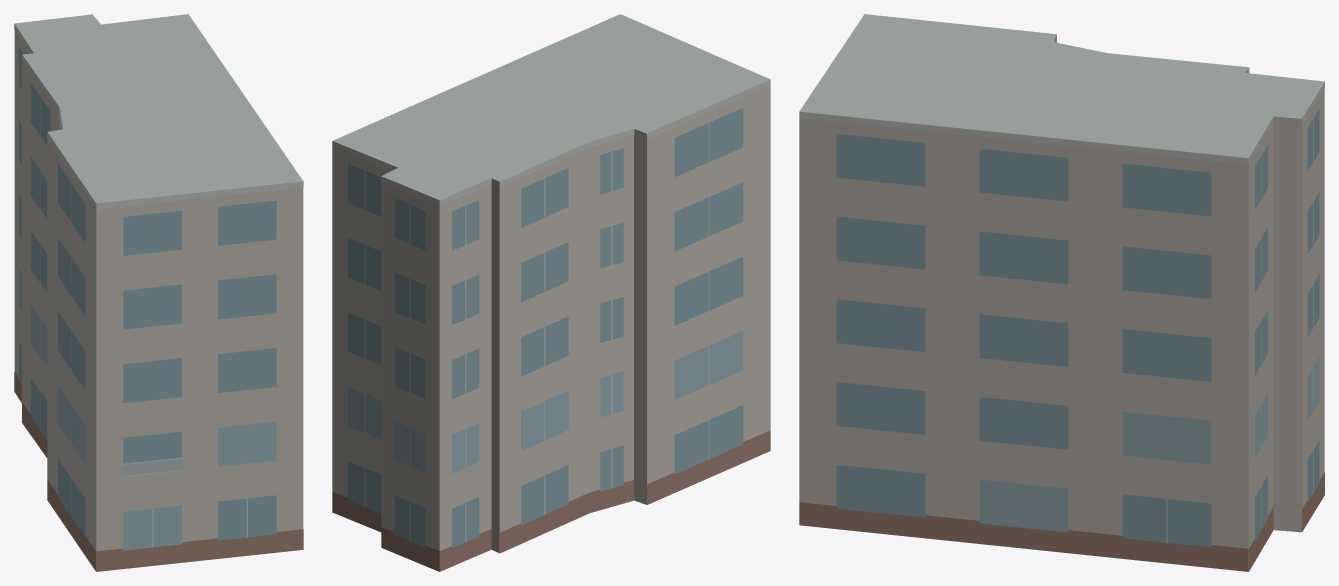
File: survey-upis-32661964.glb
The picture shows the model from 3 angles, left to right: view 1: azimuth 30°, elevation 25°; view 2: azimuth 150°, elevation 25°; view 3: azimuth 270°, elevation 25°; orthographic projection. The views are drawn at different scales.
Visible parts, largest first — view 1: survey-upis-32661964.tmp; view 2: survey-upis-32661964.tmp; view 3: survey-upis-32661964.tmp.
Part boxes in pixels (box(x1,y1,x2,y2)): survey-upis-32661964.tmp: box(14, 14, 303, 571); survey-upis-32661964.tmp: box(332, 14, 770, 571); survey-upis-32661964.tmp: box(799, 14, 1324, 571).
Size of the model in its own units: 11.42 by 15.25 by 17.57.
